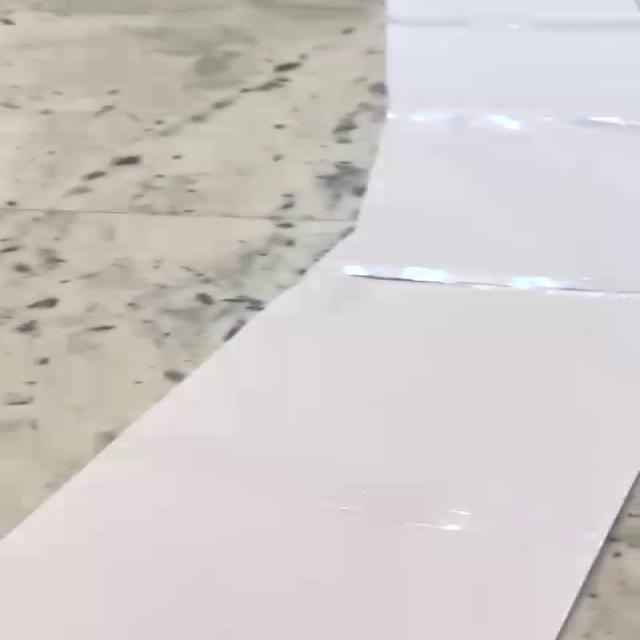road: (0, 0, 640, 640)
